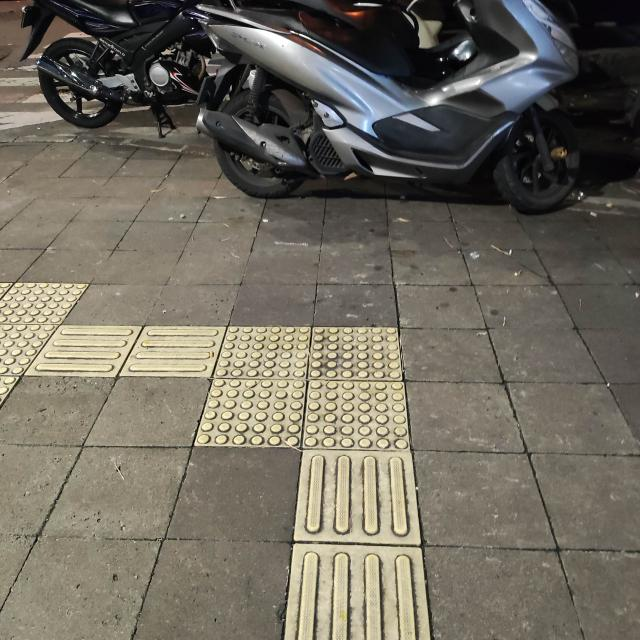kiri: (110, 278, 452, 544)
